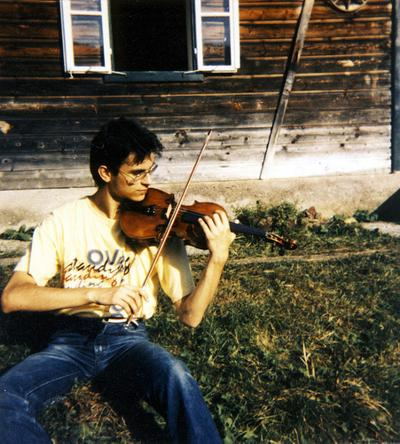person: (4, 122, 238, 442)
